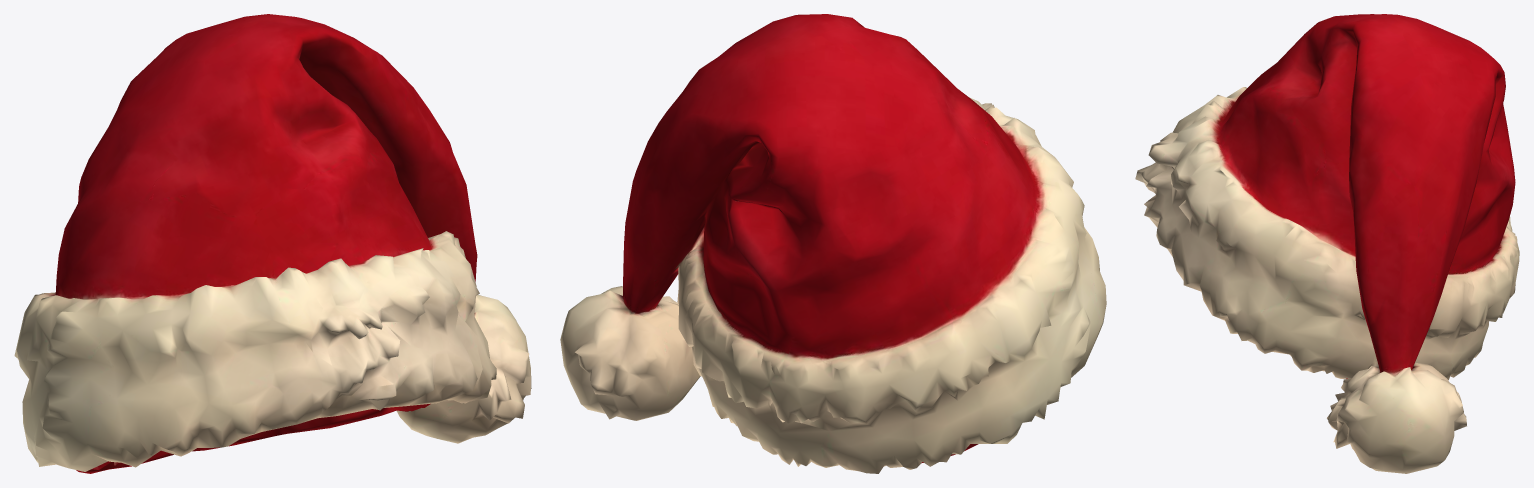
The model's file is santa_hat_tripo.glb.
3 renders of one model, left to right at view 1: azimuth 30°, elevation 25°; view 2: azimuth 150°, elevation 25°; view 3: azimuth 270°, elevation 25°, orthographic. The views are drawn at different scales.
Parts seen in each view (by area): view 1: tripo_node_c9c78f28-d489-4245-8510-18d26b645135; view 2: tripo_node_c9c78f28-d489-4245-8510-18d26b645135; view 3: tripo_node_c9c78f28-d489-4245-8510-18d26b645135.
Part boxes in pixels (bbox=[...]): tripo_node_c9c78f28-d489-4245-8510-18d26b645135: bbox=[14, 14, 531, 473]; tripo_node_c9c78f28-d489-4245-8510-18d26b645135: bbox=[560, 14, 1106, 473]; tripo_node_c9c78f28-d489-4245-8510-18d26b645135: bbox=[1135, 14, 1519, 473].
Size of the model in its own units: 0.982 by 0.8332 by 0.7774.
Materials: 1 (1 with a texture image).
